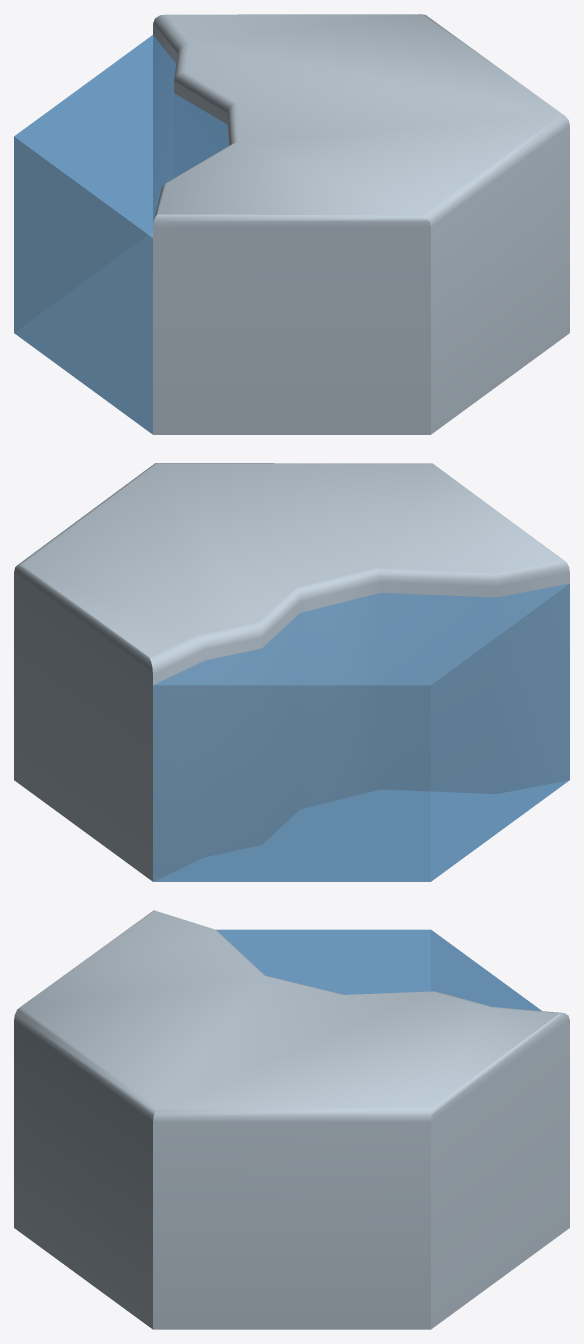
Rendered from snow_waterD.fbx.
The picture shows the model from 3 angles, top to bottom: view 1: azimuth 30°, elevation 25°; view 2: azimuth 150°, elevation 25°; view 3: azimuth 270°, elevation 25°; orthographic projection.
Visible parts, largest first — view 1: hex_forest_waterD, hex_forest_waterD.001; view 2: hex_forest_waterD, hex_forest_waterD.001; view 3: hex_forest_waterD, hex_forest_waterD.001.
Part boxes in pixels (x1,y1,x2,y2): hex_forest_waterD: (153, 14, 569, 434); hex_forest_waterD.001: (14, 35, 227, 434); hex_forest_waterD: (14, 463, 569, 881); hex_forest_waterD.001: (153, 583, 569, 881); hex_forest_waterD: (14, 910, 569, 1329); hex_forest_waterD.001: (216, 929, 541, 1010).
Size of the model in its own units: 200 by 100 by 231.
